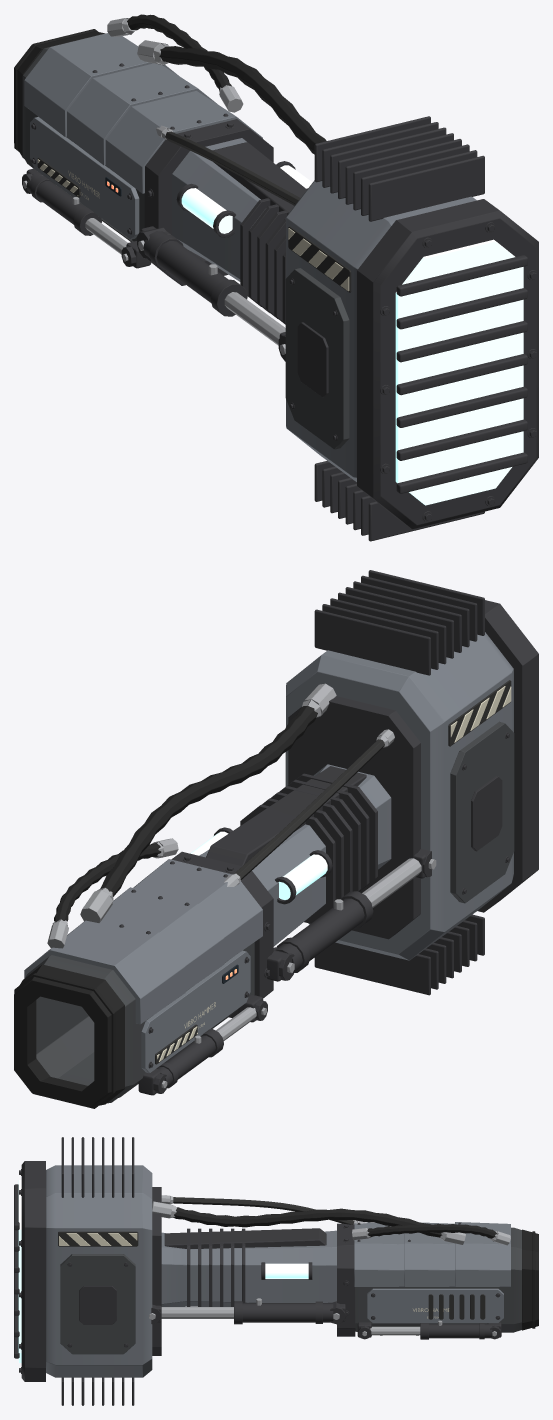
Rendered from hammer.glb.
The picture shows the model from 3 angles, top to bottom: view 1: azimuth 30°, elevation 25°; view 2: azimuth 150°, elevation 25°; view 3: azimuth 270°, elevation 25°; orthographic projection. The views are drawn at different scales.
Visible parts, largest first — view 1: Body; view 2: Body; view 3: Body.
Part boxes in pixels (box(x1,y1,x2,y2)): Body: box(14, 14, 538, 541); Body: box(14, 570, 538, 1108); Body: box(14, 1137, 538, 1405).
Bounding box in the file's own units: 0.28 × 0.544 × 1.11.
